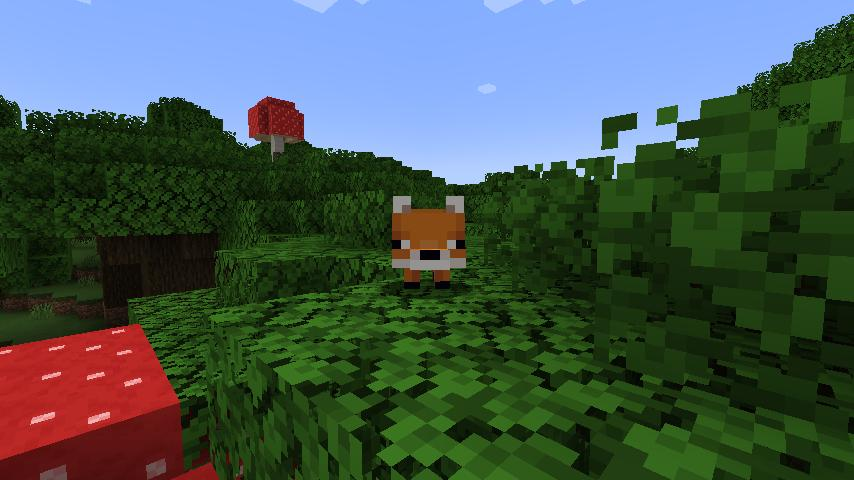fox: (386, 188, 471, 305)
